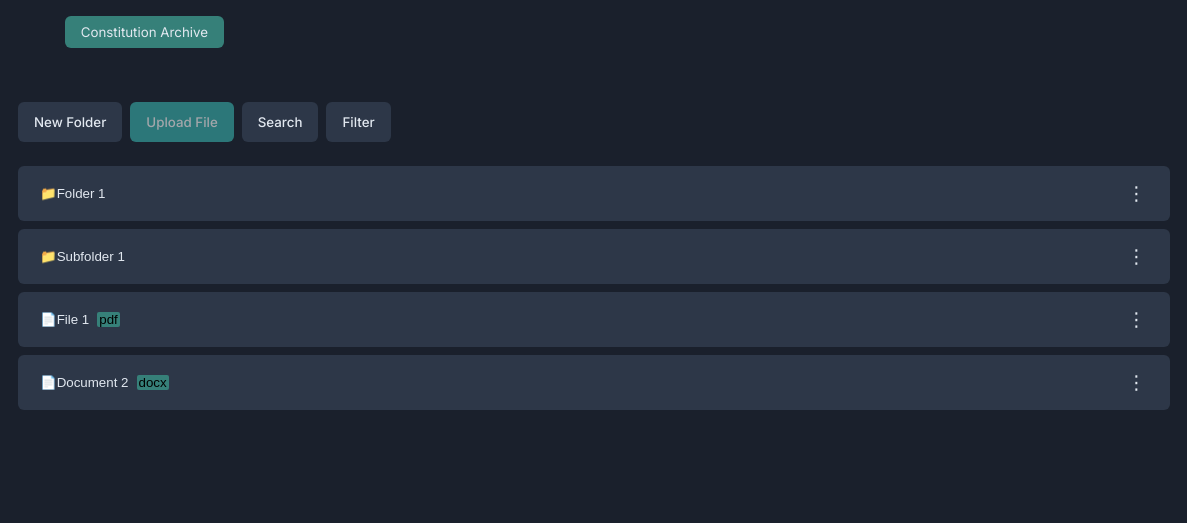
it: FolderBrowser Component › renders create folder form when showCreateFolder is true
Click the button "New Folder" at (70, 122), box [18,102,122,142]
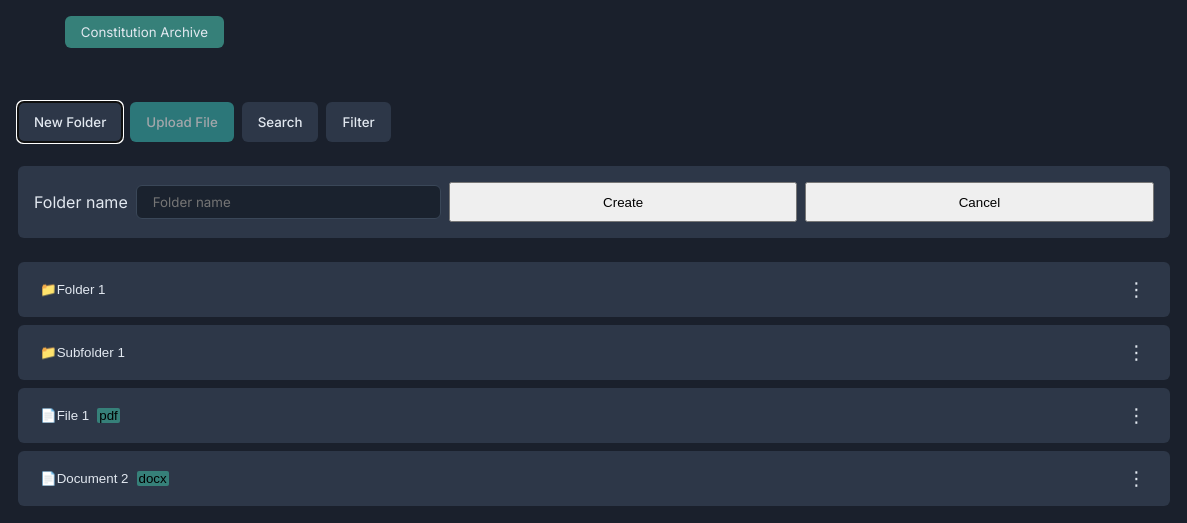
Result: the field with placeholder "Folder name" is shown at [136,185,441,219]
